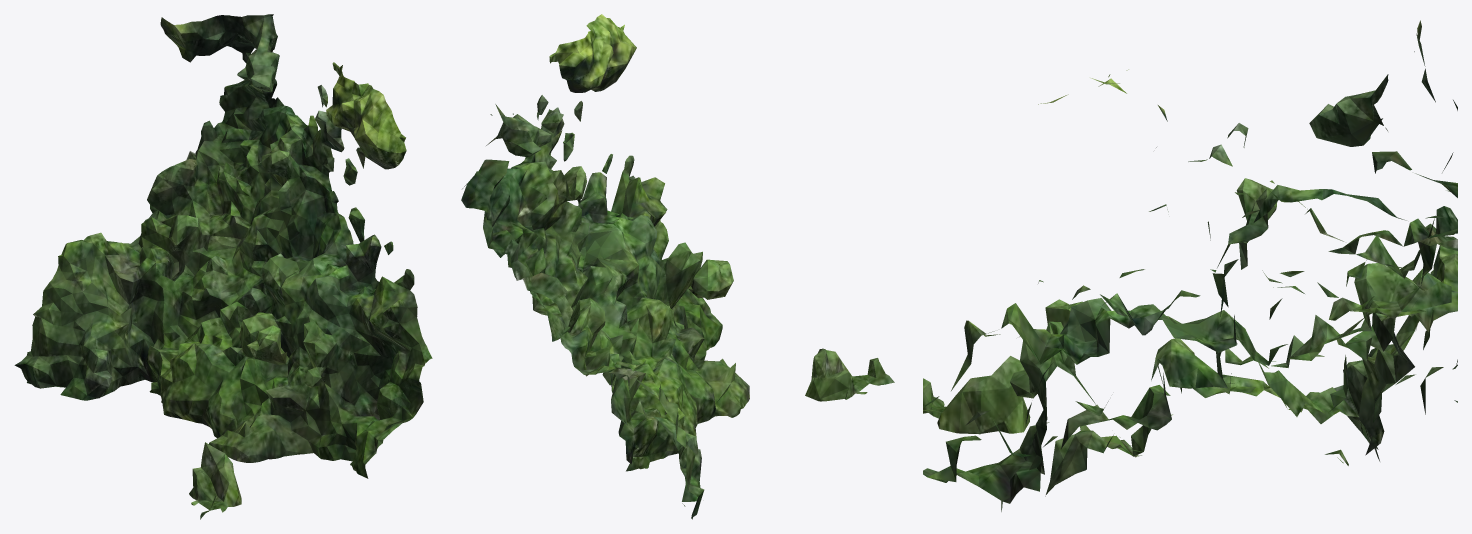
The picture shows the model from 3 angles, left to right: view 1: azimuth 30°, elevation 25°; view 2: azimuth 150°, elevation 25°; view 3: azimuth 270°, elevation 25°; orthographic projection. The views are drawn at different scales.
Size of the model in its own units: 19.23 by 26.11 by 26.11.
Materials: 4 (4 with a texture image).
